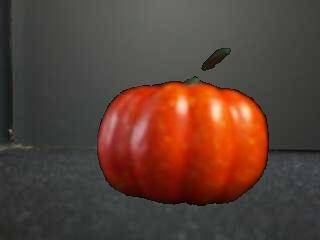Pumpkin: (97, 47, 269, 206)
